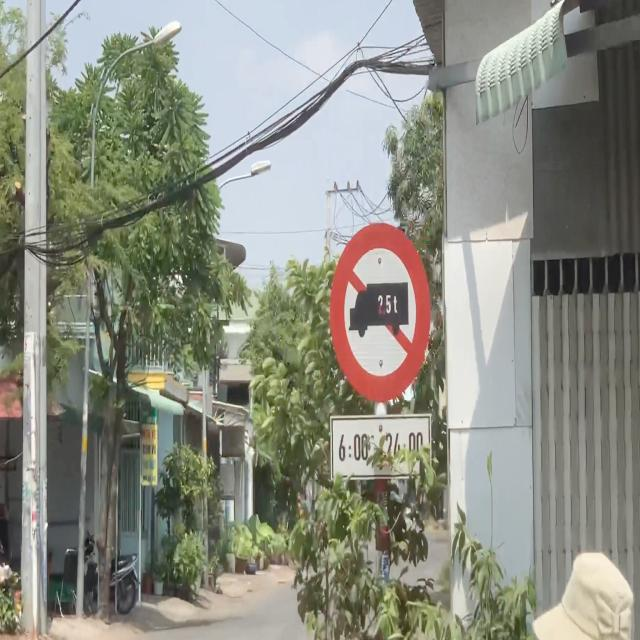Cam con lai: (328, 221, 432, 403)
